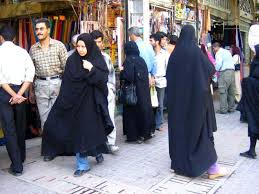middle_eastern_Female: (75, 41, 89, 56)
